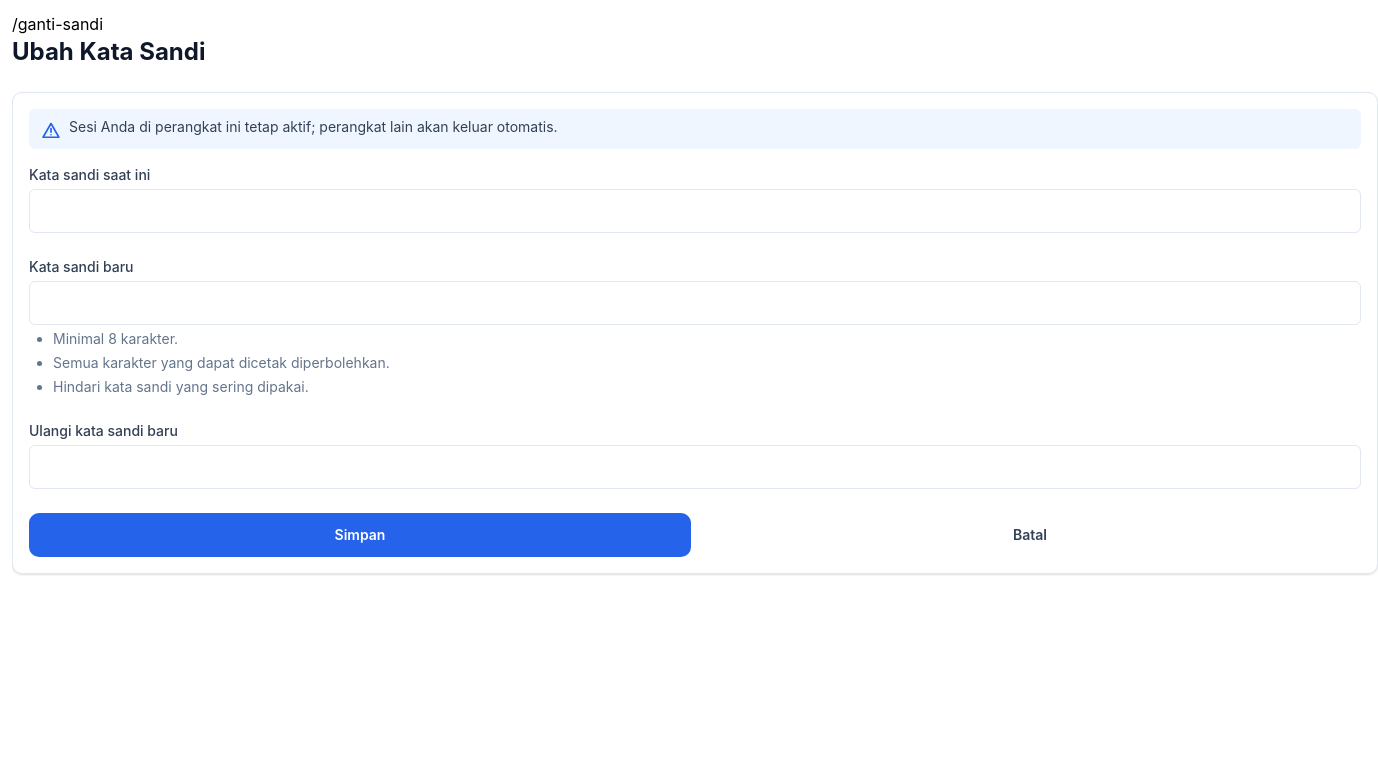
ChangePasswordPage › requires the current password before anything else is checked
In the password field labelled "Kata sandi baru": x=695, y=303 top-left (29, 281), bottom-right (1361, 325), type "brand-new-pass"
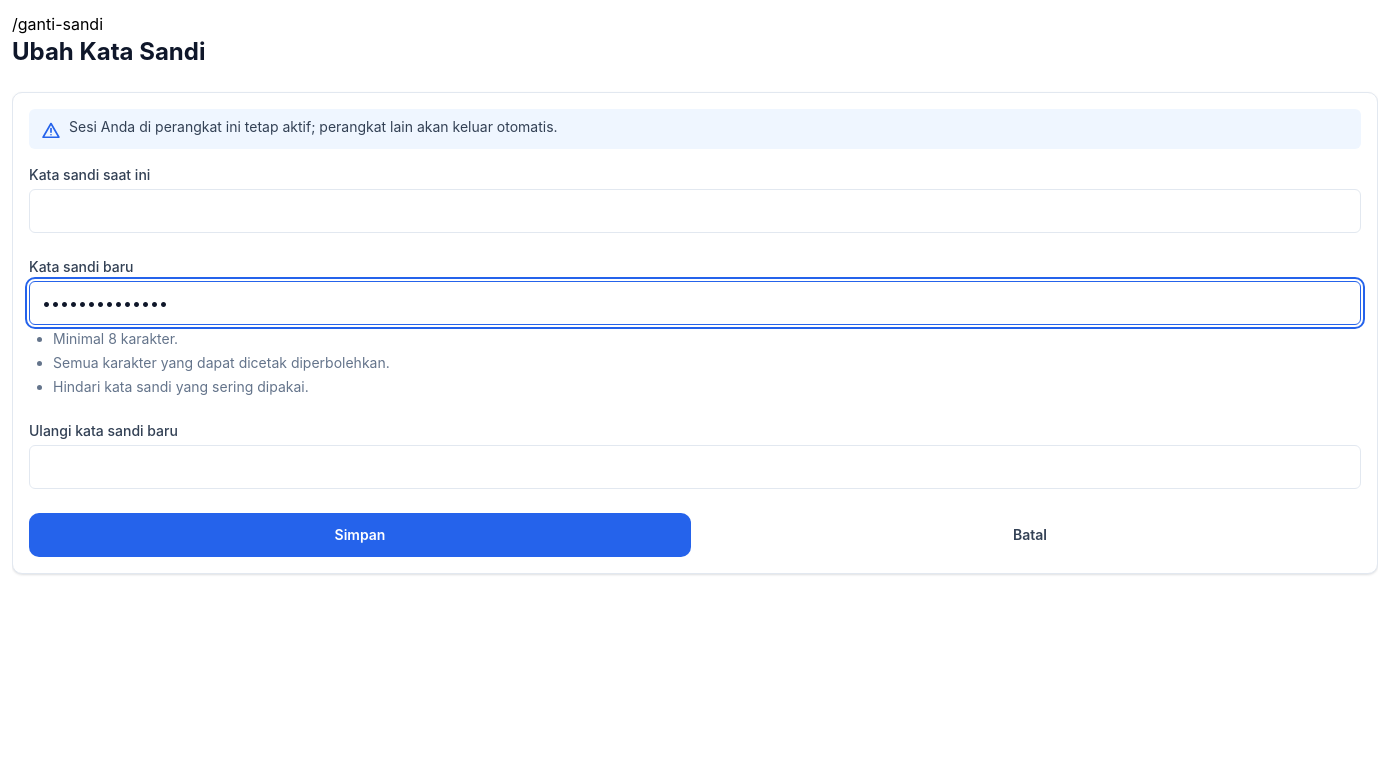
In the password field labelled "Ulangi kata sandi baru": x=695, y=467 top-left (29, 445), bottom-right (1361, 489), type "brand-new-pass"
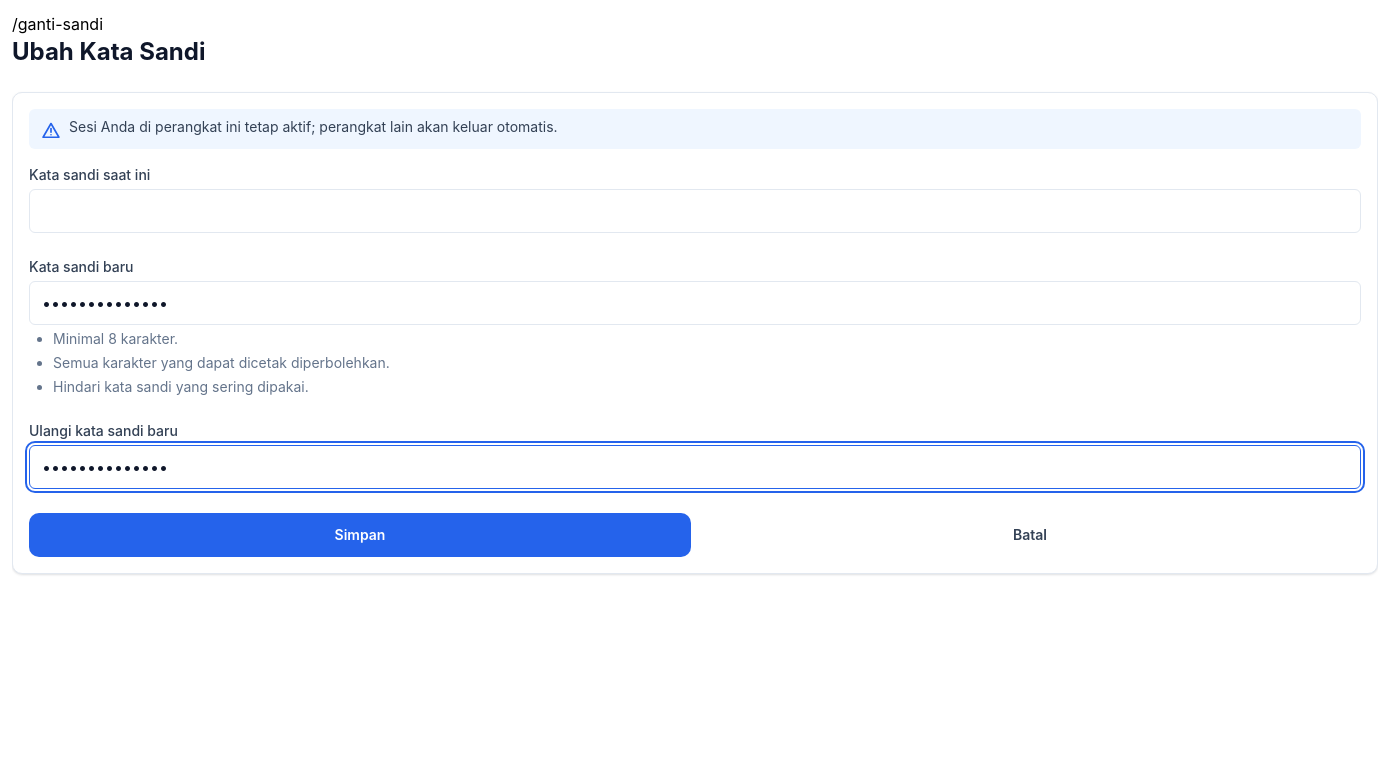
Click the button with test id "password-save": x=360, y=535 top-left (29, 513), bottom-right (691, 557)
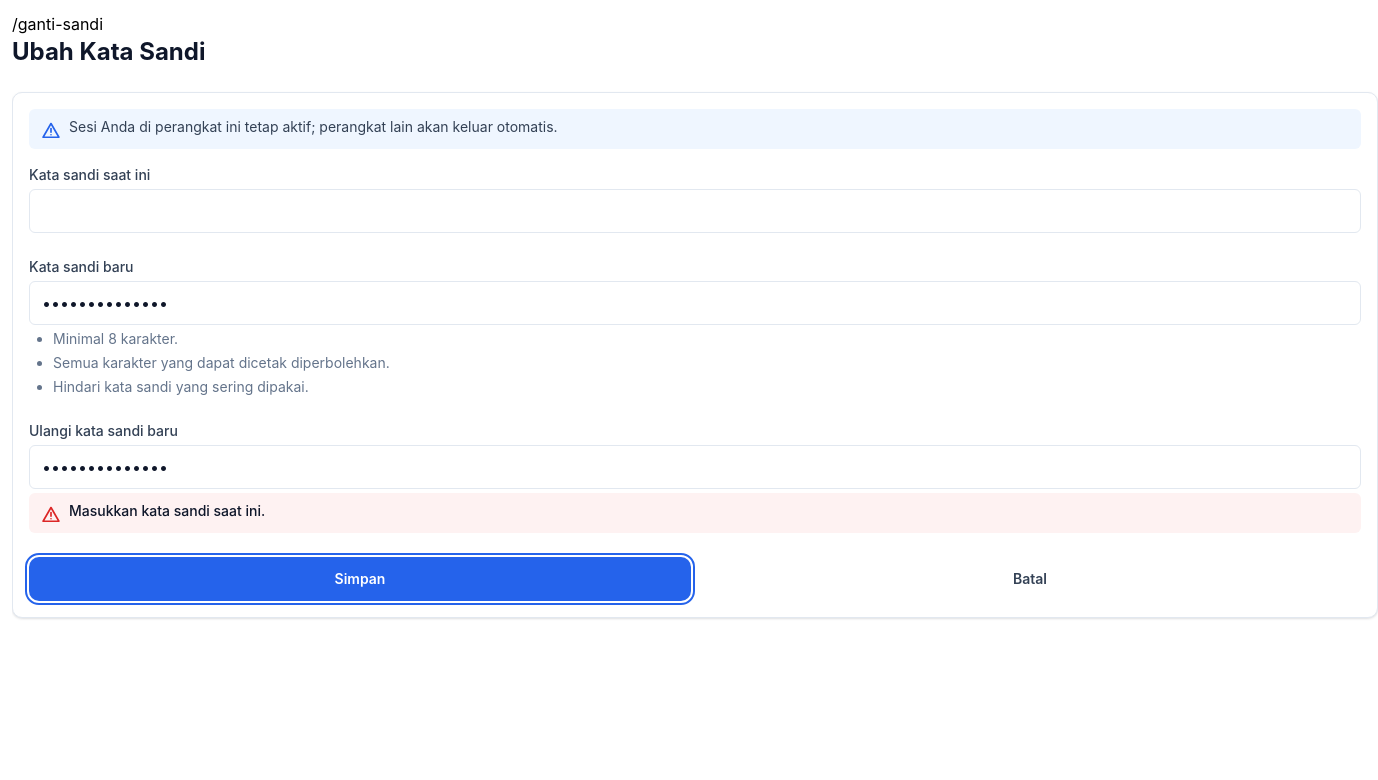
expect the message with test id "password-error" reads "Masukkan kata sandi saat ini.": met, box top-left (69, 502), bottom-right (265, 519)
